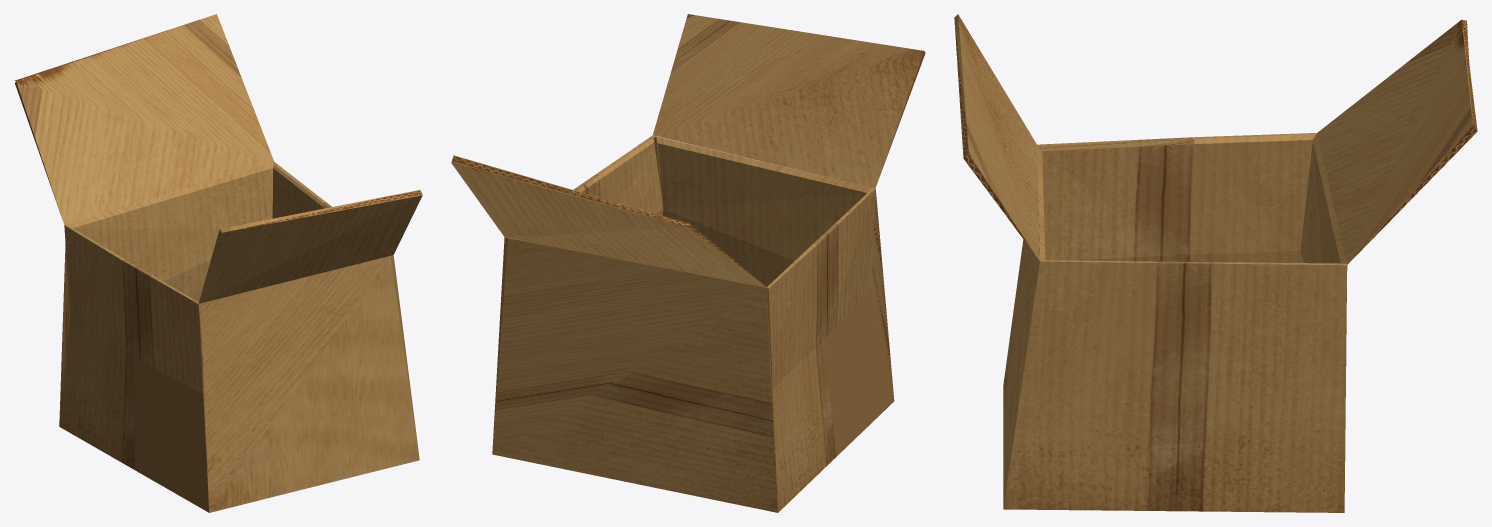
File: boxOpen.fbx
3 views of the same model, side by side, from view 1: azimuth 30°, elevation 25°; view 2: azimuth 150°, elevation 25°; view 3: azimuth 270°, elevation 25° (orthographic). The views are drawn at different scales.
Parts seen in each view (by area): view 1: box; view 2: box; view 3: box.
Part boxes in pixels (left/top/right/bottom): box: left=14, top=14, right=422, bottom=512; box: left=451, top=14, right=925, bottom=512; box: left=954, top=14, right=1477, bottom=512.
Size of the model in its own units: 209 by 257 by 321.
1 material, 1 textured.
